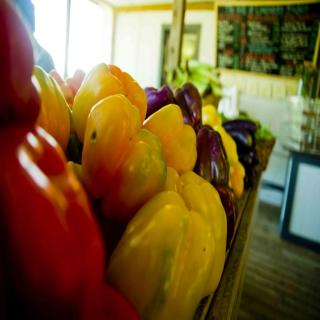Bell pepper: (1, 0, 247, 320)
